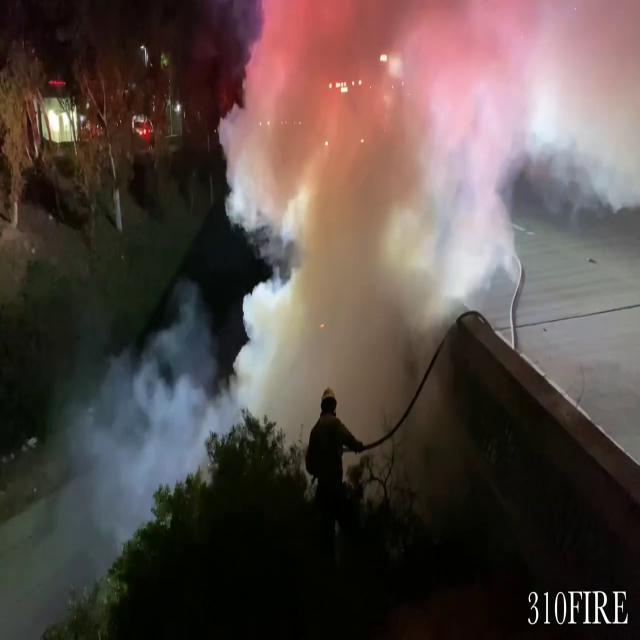Smoke: (214, 0, 556, 477), (70, 288, 222, 550)
